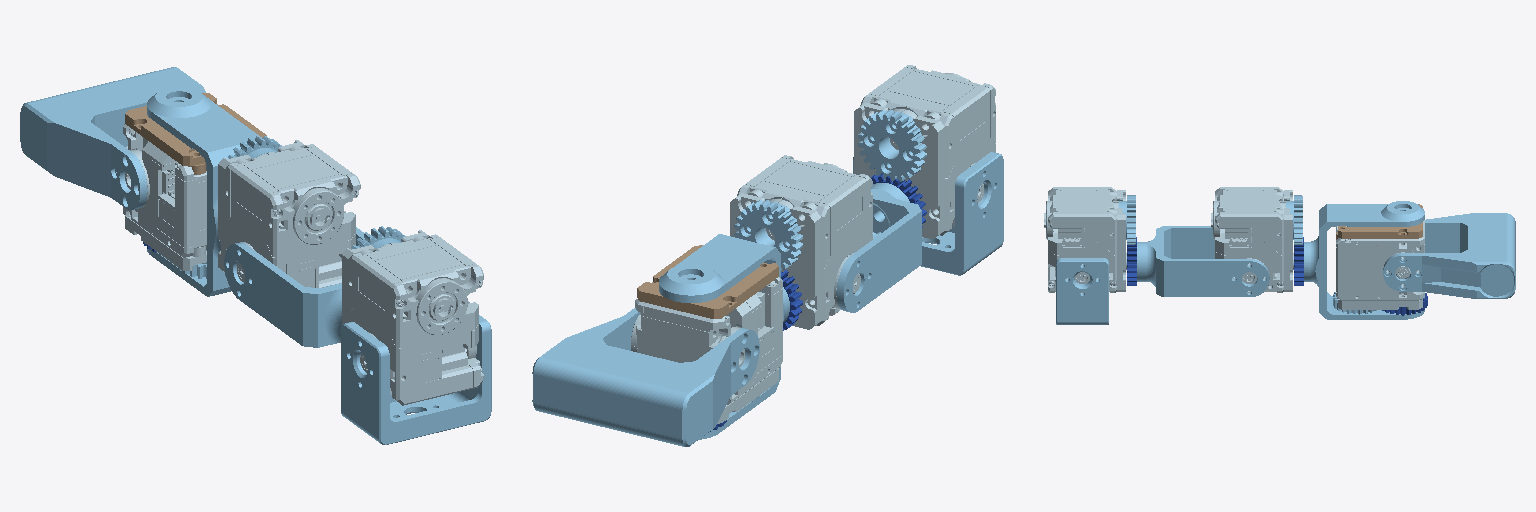
The robot description file, URDF, robot "left_arm_teleop":
<?xml version="1.0" ?><robot name="left_arm_teleop">  
  <link name="sho_pitch_link">    
    <visual>      
      <origin xyz="0 0 0" rpy="0 -0 0"/>      
      <geometry>        
        <mesh filename="package:///meshes/left_sho_pitch_link_visual.stl"/>        
      </geometry>      
      <material name="sho_pitch_link_material">        
        <color rgba="0.61568627450980395466 0.81176470588235294379 0.92941176470588227065 1.0"/>        
      </material>      
    </visual>    
    <collision>      
      <origin xyz="0 0 0" rpy="0 -0 0"/>      
      <geometry>        
        <mesh filename="package:///meshes/left_sho_pitch_link_collision.stl"/>        
      </geometry>      
    </collision>    
    <inertial>      
      <origin xyz="5.8623053609137080132e-19 -2.0931553598988855584e-18 0.012913250798677602602" rpy="0 0 0"/>      
      <mass value="0.0085999999999999965361"/>      
      <inertia ixx="1.8365636406635814379e-06" ixy="0" ixz="0" iyy="4.0110869076839143695e-06" iyz="0" izz="3.5160516450492489574e-06"/>      
    </inertial>    
  </link>  

  <link name="2xl430_gears">    
    <visual>      
      <origin xyz="0 0 0" rpy="0 -0 0"/>      
      <geometry>        
        <mesh filename="package:///meshes/left_2xl430_gears_visual.stl"/>        
      </geometry>      
      <material name="2xl430_gears_material">        
        <color rgba="0.75914767920569226067 0.85560384745670925444 0.90519468321360618823 1.0"/>        
      </material>      
    </visual>    
    <collision>      
      <origin xyz="0 0 0" rpy="0 -0 0"/>      
      <geometry>        
        <mesh filename="package:///meshes/left_2xl430_gears_collision.stl"/>        
      </geometry>      
    </collision>    
    <inertial>      
      <origin xyz="-0.011592905737978803637 -0.0024238553642536059436 -0.018551095523800659182" rpy="0 0 0"/>      
      <mass value="0.11800003674524910113"/>      
      <inertia ixx="2.7511021050422894353e-05" ixy="9.0043904315126140096e-07" ixz="-2.3349710123415146399e-08" iyy="3.2796197843345387254e-05" iyz="-6.5715119654595680896e-07" izz="3.5775739835739264229e-05"/>      
    </inertial>    
  </link>  

  <link name="spur_1m_24t_drive">    
    <visual>      
      <origin xyz="0 0 0" rpy="0 -0 0"/>      
      <geometry>        
        <mesh filename="package:///meshes/left_spur_1m_24t_drive_visual.stl"/>        
      </geometry>      
      <material name="spur_1m_24t_drive_material">        
        <color rgba="0.61568627450980395466 0.81176470588235294379 0.92941176470588238168 1.0"/>        
      </material>      
    </visual>    
    <collision>      
      <origin xyz="0 0 0" rpy="0 -0 0"/>      
      <geometry>        
        <mesh filename="package:///meshes/left_spur_1m_24t_drive_collision.stl"/>        
      </geometry>      
    </collision>    
    <inertial>      
      <origin xyz="3.0325878279133917462e-15 -3.3903091193370445719e-16 0.0048096451474093065287" rpy="0 0 0"/>      
      <mass value="0.0031999999999999997197"/>      
      <inertia ixx="1.4097598887016958673e-07" ixy="1.5562823089627635723e-15" ixz="1.1248526202470513281e-35" iyy="1.4097598803636004139e-07" iyz="9.9927271392864863708e-37" izz="2.4107776386988835496e-07"/>      
    </inertial>    
  </link>  

  <joint name="left_sho_yaw_drive" type="revolute">    
    <origin xyz="-0.02400000071613746927 -0.019000000152448223711 -0.019000000152443286688" rpy="1.570796326794831721 1.850797764112113412e-15 9.6109993447934156082e-14"/>    
    <parent link="2xl430_gears"/>    
    <child link="spur_1m_24t_drive"/>    
    <axis xyz="0 0 1"/>    
    <limit effort="1" velocity="20" lower="-2.6179938779914944114" upper="2.6179938779914944114"/>    
    <joint_properties friction="0.0"/>    
  </joint>  

  <link name="spur_1m_24t_driven">    
    <visual>      
      <origin xyz="0 0 0" rpy="0 -0 0"/>      
      <geometry>        
        <mesh filename="package:///meshes/left_spur_1m_24t_driven_visual.stl"/>        
      </geometry>      
      <material name="spur_1m_24t_driven_material">        
        <color rgba="0.23137254901960788156 0.38039215686274502337 0.7058823529411765163 1.0"/>        
      </material>      
    </visual>    
    <collision>      
      <origin xyz="0 0 0" rpy="0 -0 0"/>      
      <geometry>        
        <mesh filename="package:///meshes/left_spur_1m_24t_driven_collision.stl"/>        
      </geometry>      
    </collision>    
    <inertial>      
      <origin xyz="-6.404638024517231991e-18 -1.6890438479001199412e-15 -0.00097237500038395777158" rpy="0 0 0"/>      
      <mass value="0.0026999999999999997093"/>      
      <inertia ixx="1.2202334915684080498e-07" ixy="-6.0162156049723093734e-39" ixz="8.2060518936513077318e-37" iyy="1.2202334915684067263e-07" iyz="6.7178770649611424629e-37" izz="2.3180293204341257533e-07"/>      
    </inertial>    
  </link>  

  <link name="sho_yaw_link">    
    <visual>      
      <origin xyz="0 0 0" rpy="0 -0 0"/>      
      <geometry>        
        <mesh filename="package:///meshes/left_sho_yaw_link_visual.stl"/>        
      </geometry>      
      <material name="sho_yaw_link_material">        
        <color rgba="0.61568627450980395466 0.81176470588235294379 0.92941176470588238168 1.0"/>        
      </material>      
    </visual>    
    <collision>      
      <origin xyz="0 0 0" rpy="0 -0 0"/>      
      <geometry>        
        <mesh filename="package:///meshes/left_sho_yaw_link_collision.stl"/>        
      </geometry>      
    </collision>    
    <inertial>      
      <origin xyz="2.0455466263090747861e-18 1.3692911871626713223e-18 -0.024649285094360082193" rpy="0 0 0"/>      
      <mass value="0.014500000000000007674"/>      
      <inertia ixx="9.2365904614004490375e-06" ixy="3.5862833440653485265e-13" ixz="2.0149322874729222942e-34" iyy="5.8163826335078808654e-06" iyz="-1.9453303104062545315e-35" izz="4.5074356741562147442e-06"/>      
    </inertial>    
  </link>  

  <link name="2xl430_gears_2">    
    <visual>      
      <origin xyz="0 0 0" rpy="0 -0 0"/>      
      <geometry>        
        <mesh filename="package:///meshes/left_2xl430_gears_2_visual.stl"/>        
      </geometry>      
      <material name="2xl430_gears_2_material">        
        <color rgba="0.75914767920569226067 0.85560384745670925444 0.90519468321360618823 1.0"/>        
      </material>      
    </visual>    
    <collision>      
      <origin xyz="0 0 0" rpy="0 -0 0"/>      
      <geometry>        
        <mesh filename="package:///meshes/left_2xl430_gears_2_collision.stl"/>        
      </geometry>      
    </collision>    
    <inertial>      
      <origin xyz="-0.011592905737977643107 -0.0024238553642528253181 -0.018551095523810064852" rpy="0 0 0"/>      
      <mass value="0.11800003674524910113"/>      
      <inertia ixx="2.7511021050425533708e-05" ixy="9.0043904315421701655e-07" ixz="-2.3349710124846109302e-08" iyy="3.2796197843347474343e-05" iyz="-6.5715119654969137722e-07" izz="3.5775739835742367758e-05"/>      
    </inertial>    
  </link>  

  <link name="spur_1m_24t_drive_2">    
    <visual>      
      <origin xyz="0 0 0" rpy="0 -0 0"/>      
      <geometry>        
        <mesh filename="package:///meshes/left_spur_1m_24t_drive_2_visual.stl"/>        
      </geometry>      
      <material name="spur_1m_24t_drive_2_material">        
        <color rgba="0.61568627450980395466 0.81176470588235294379 0.92941176470588238168 1.0"/>        
      </material>      
    </visual>    
    <collision>      
      <origin xyz="0 0 0" rpy="0 -0 0"/>      
      <geometry>        
        <mesh filename="package:///meshes/left_spur_1m_24t_drive_2_collision.stl"/>        
      </geometry>      
    </collision>    
    <inertial>      
      <origin xyz="3.0395267218172985801e-15 -3.3903091193370440789e-16 0.0048096451474093134676" rpy="0 0 0"/>      
      <mass value="0.0031999999999999997197"/>      
      <inertia ixx="1.4097598887016953379e-07" ixy="1.5562823155802084727e-15" ixz="1.5748187382015000714e-37" iyy="1.4097598803636004139e-07" iyz="-1.3144004331134929355e-36" izz="2.4107776386988835496e-07"/>      
    </inertial>    
  </link>  

  <joint name="left_elbow_yaw_drive" type="revolute">    
    <origin xyz="-0.024000000716137479678 -0.019000000152447349411 -0.019000000152459572272" rpy="1.570796326795050879 -2.4623776678040227635e-13 -5.5971478390936795191e-14"/>    
    <parent link="2xl430_gears_2"/>    
    <child link="spur_1m_24t_drive_2"/>    
    <axis xyz="0 0 1"/>    
    <limit effort="1" velocity="20" lower="-2.6179938779914944114" upper="2.6179938779914944114"/>    
    <joint_properties friction="0.0"/>    
  </joint>  

  <link name="spur_1m_24t_driven_2">    
    <visual>      
      <origin xyz="0 0 0" rpy="0 -0 0"/>      
      <geometry>        
        <mesh filename="package:///meshes/left_spur_1m_24t_driven_2_visual.stl"/>        
      </geometry>      
      <material name="spur_1m_24t_driven_2_material">        
        <color rgba="0.23137254901960788156 0.38039215686274502337 0.7058823529411765163 1.0"/>        
      </material>      
    </visual>    
    <collision>      
      <origin xyz="0 0 0" rpy="0 -0 0"/>      
      <geometry>        
        <mesh filename="package:///meshes/left_spur_1m_24t_driven_2_collision.stl"/>        
      </geometry>      
    </collision>    
    <inertial>      
      <origin xyz="-2.9351910725639001435e-18 -1.6858132070739996184e-15 -0.00097237500038395430213" rpy="0 0 0"/>      
      <mass value="0.0026999999999999997093"/>      
      <inertia ixx="1.2202334915684080498e-07" ixy="1.3355998642232598043e-36" ixz="-1.4028523296068065959e-36" iyy="1.2202334915684067263e-07" iyz="-9.8296243549721208514e-37" izz="2.3180293204341257533e-07"/>      
    </inertial>    
  </link>  

  <link name="elb_yaw_link">    
    <visual>      
      <origin xyz="0 0 0" rpy="0 -0 0"/>      
      <geometry>        
        <mesh filename="package:///meshes/left_elb_yaw_link_visual.stl"/>        
      </geometry>      
      <material name="elb_yaw_link_material">        
        <color rgba="0.61568627450980395466 0.81176470588235294379 0.9294117647058824927 1.0"/>        
      </material>      
    </visual>    
    <collision>      
      <origin xyz="0 0 0" rpy="0 -0 0"/>      
      <geometry>        
        <mesh filename="package:///meshes/left_elb_yaw_link_collision.stl"/>        
      </geometry>      
    </collision>    
    <inertial>      
      <origin xyz="5.3127688027629610046e-08 0.0019833638641961644222 -0.023416643551549942009" rpy="0 0 0"/>      
      <mass value="0.017499999999999994726"/>      
      <inertia ixx="1.4134344903109187917e-05" ixy="1.694578392202575009e-12" ixz="-1.1286398721840430294e-11" iyy="6.6435900776211281112e-06" iyz="1.0545227077253053344e-06" izz="8.9925290757998942891e-06"/>      
    </inertial>    
  </link>  

  <link name="spur_1m_24t_driven_3">    
    <visual>      
      <origin xyz="0 0 0" rpy="0 -0 0"/>      
      <geometry>        
        <mesh filename="package:///meshes/left_spur_1m_24t_driven_3_visual.stl"/>        
      </geometry>      
      <material name="spur_1m_24t_driven_3_material">        
        <color rgba="0.23137254901960788156 0.38039215686274502337 0.7058823529411765163 1.0"/>        
      </material>      
    </visual>    
    <collision>      
      <origin xyz="0 0 0" rpy="0 -0 0"/>      
      <geometry>        
        <mesh filename="package:///meshes/left_spur_1m_24t_driven_3_collision.stl"/>        
      </geometry>      
    </collision>    
    <inertial>      
      <origin xyz="-3.0690766688192841002e-17 -1.6890438479001193495e-15 -0.0025723750003839584988" rpy="0 0 0"/>      
      <mass value="0.0026999999999999997093"/>      
      <inertia ixx="1.2202334915684080498e-07" ixy="1.2875702339791737391e-36" ixz="-1.8069035801143971289e-36" iyy="1.2202334915684067263e-07" iyz="-1.3585414254943858721e-36" izz="2.3180293204341257533e-07"/>      
    </inertial>    
  </link>  

  <link name="2xl430_gears_3">    
    <visual>      
      <origin xyz="0 0 0" rpy="0 -0 0"/>      
      <geometry>        
        <mesh filename="package:///meshes/left_2xl430_gears_3_visual.stl"/>        
      </geometry>      
      <material name="2xl430_gears_3_material">        
        <color rgba="0.75914767920569226067 0.85560384745670925444 0.90519468321360618823 1.0"/>        
      </material>      
    </visual>    
    <collision>      
      <origin xyz="0 0 0" rpy="0 -0 0"/>      
      <geometry>        
        <mesh filename="package:///meshes/left_2xl430_gears_3_collision.stl"/>        
      </geometry>      
    </collision>    
    <inertial>      
      <origin xyz="0.00044890447620279038624 0.011592905379897515059 -0.024576144788197754748" rpy="0 0 0"/>      
      <mass value="0.11800003674524910113"/>      
      <inertia ixx="3.5775739835741385199e-05" ixy="2.3349710123656835339e-08" ixz="6.5715119654824856248e-07" iyy="2.7511021050426275709e-05" iyz="9.004390431539733887e-07" izz="3.2796197843345387254e-05"/>      
    </inertial>    
  </link>  

  <link name="spur_1m_24t_drive_3">    
    <visual>      
      <origin xyz="0 0 0" rpy="0 -0 0"/>      
      <geometry>        
        <mesh filename="package:///meshes/left_spur_1m_24t_drive_3_visual.stl"/>        
      </geometry>      
      <material name="spur_1m_24t_drive_3_material">        
        <color rgba="0.61568627450980395466 0.81176470588235294379 0.92941176470588238168 1.0"/>        
      </material>      
    </visual>    
    <collision>      
      <origin xyz="0 0 0" rpy="0 -0 0"/>      
      <geometry>        
        <mesh filename="package:///meshes/left_spur_1m_24t_drive_3_collision.stl"/>        
      </geometry>      
    </collision>    
    <inertial>      
      <origin xyz="3.0325878279133917462e-15 -3.3903091193370440789e-16 0.0048096451474093065287" rpy="0 0 0"/>      
      <mass value="0.0031999999999999997197"/>      
      <inertia ixx="1.4097598887016958673e-07" ixy="1.5562823135089737022e-15" ixz="-1.2298330600566655799e-35" iyy="1.4097598803635998845e-07" iyz="-9.647664680393920366e-37" izz="2.4107776386988835496e-07"/>      
    </inertial>    
  </link>  

  <joint name="left_wrist_pitch_drive" type="revolute">    
    <origin xyz="-1.5244061281334315741e-10 0.024000000358057355099 -0.008000000000006854059" rpy="2.9920510513620049399e-14 -2.2098000172907926085e-13 -1.5707963267949176522"/>    
    <parent link="2xl430_gears_3"/>    
    <child link="spur_1m_24t_drive_3"/>    
    <axis xyz="0 0 1"/>    
    <limit effort="1" velocity="20" lower="-1.9198621771937625091" upper="1.3962634015954635824"/>    
    <joint_properties friction="0.0"/>    
  </joint>  

  <link name="hand">    
    <visual>      
      <origin xyz="0 0 0" rpy="0 -0 0"/>      
      <geometry>        
        <mesh filename="package:///meshes/left_hand_visual.stl"/>        
      </geometry>      
      <material name="hand_material">        
        <color rgba="0.61568627450980395466 0.81176470588235294379 0.92941176470588238168 1.0"/>        
      </material>      
    </visual>    
    <collision>      
      <origin xyz="0 0 0" rpy="0 -0 0"/>      
      <geometry>        
        <mesh filename="package:///meshes/left_hand_collision.stl"/>        
      </geometry>      
    </collision>    
    <inertial>      
      <origin xyz="-2.4899508593280913982e-10 -0.040594531666389030433 -0.019479063914252026102" rpy="0 0 0"/>      
      <mass value="0.017000000000001441042"/>      
      <inertia ixx="9.218759418532231992e-06" ixy="1.5922041095748067007e-15" ixz="1.0539511470560742215e-13" iyy="6.6718567758212687756e-06" iyz="2.1533596775200797648e-08" izz="3.7788698411876585756e-06"/>      
    </inertial>    
  </link>  

  <joint name="left_wrist_roll" type="revolute">    
    <origin xyz="0.019000000000007080669 -3.5808120357749828599e-10 -0.027000000152448053875" rpy="1.65501867512989302e-28 1.5707963267945834751 0"/>    
    <parent link="2xl430_gears_3"/>    
    <child link="hand"/>    
    <axis xyz="0 0 1"/>    
    <limit effort="1" velocity="20" lower="-1.9198621771937625091" upper="1.3962634015954635824"/>    
    <joint_properties friction="0.0"/>    
  </joint>  

  <link name="wrist_bearing_plate">    
    <visual>      
      <origin xyz="0 0 0" rpy="0 -0 0"/>      
      <geometry>        
        <mesh filename="package:///meshes/left_wrist_bearing_plate_visual.stl"/>        
      </geometry>      
      <material name="wrist_bearing_plate_material">        
        <color rgba="0.71932243125689065977 0.63128434304969727187 0.52422389360984933404 1.0"/>        
      </material>      
    </visual>    
    <collision>      
      <origin xyz="0 0 0" rpy="0 -0 0"/>      
      <geometry>        
        <mesh filename="package:///meshes/left_wrist_bearing_plate_collision.stl"/>        
      </geometry>      
    </collision>    
    <inertial>      
      <origin xyz="-0.0075835583121499549816 -0.015499999999999977338 -0.0018386323705903348785" rpy="0 0 0"/>      
      <mass value="0.0049000367468305548388"/>      
      <inertia ixx="4.9707430109150118544e-07" ixy="1.4349298964815090828e-22" ixz="1.8100904820814068335e-08" iyy="7.1268523603538553059e-07" iyz="3.0683589798298992542e-23" izz="1.1919657811600109234e-06"/>      
    </inertial>    
  </link>  

  <joint name="left_wrist_pitch_fixed" type="fixed">    
    <origin xyz="0.015500000000007917167 -1.8096635301390051609e-14 -0.044999999999998950562" rpy="3.486100297319300299e-14 -2.8212328306853425065e-13 -1.570796326794906328"/>    
    <parent link="2xl430_gears_3"/>    
    <child link="wrist_bearing_plate"/>    
    <axis xyz="0 0 1"/>    
    <limit effort="1" velocity="20"/>    
    <joint_properties friction="0.0"/>    
  </joint>  

  <joint name="left_wrist_pitch_driven" type="revolute">    
    <origin xyz="0 -1.5777218104420236108e-30 -0.001599999999999995523" rpy="-8.9088059138933082651e-15 -1.3322676295501766467e-14 -1.570796326794896558"/>    
    <parent link="spur_1m_24t_driven_3"/>    
    <child link="2xl430_gears_3"/>    
    <axis xyz="0 0 1"/>    
    <limit effort="1" velocity="20" lower="-1.3962634015954635824" upper="1.9198621771937625091"/>    
    <joint_properties friction="0.0"/>    
  </joint>  

  <joint name="left_wrist_roll_fixed" type="fixed">    
    <origin xyz="4.7331654313260708325e-30 -0.025299999999999996103 -0.051999999999999935163" rpy="1.5707963267949045516 -1.5707963267948876762 0"/>    
    <parent link="elb_yaw_link"/>    
    <child link="spur_1m_24t_driven_3"/>    
    <axis xyz="0 0 1"/>    
    <limit effort="1" velocity="20"/>    
    <joint_properties friction="0.0"/>    
  </joint>  

  <joint name="left_elbow_yaw_fixed" type="fixed">    
    <origin xyz="0 3.4694469519536141888e-18 0.0016000000000000041966" rpy="3.141592653589793116 2.4936649967313003473e-18 -2.2204460492502714191e-16"/>    
    <parent link="spur_1m_24t_driven_2"/>    
    <child link="elb_yaw_link"/>    
    <axis xyz="0 0 1"/>    
    <limit effort="1" velocity="20"/>    
    <joint_properties friction="0.0"/>    
  </joint>  

  <joint name="left_elbow_yaw_driven" type="revolute">    
    <origin xyz="-3.5806392920112450895e-10 -0.027000000152452754976 -0.019000000000006633111" rpy="1.5707963267949589525 1.5707963267947409047 0"/>    
    <parent link="2xl430_gears_2"/>    
    <child link="spur_1m_24t_driven_2"/>    
    <axis xyz="0 0 1"/>    
    <limit effort="1" velocity="20" lower="-2.6179938779914944114" upper="2.6179938779914944114"/>    
    <joint_properties friction="0.0"/>    
  </joint>  

  <joint name="left_elbow_roll" type="revolute">    
    <origin xyz="3.4694469519536141888e-18 -0.019000000000000002998 -0.058999999999999996891" rpy="1.5707963267948954478 7.3152855301068808406e-14 2.7484141262355823552e-16"/>    
    <parent link="sho_yaw_link"/>    
    <child link="2xl430_gears_2"/>    
    <axis xyz="0 0 1"/>    
    <limit effort="1" velocity="20" lower="-1.9198621771937625091" upper="2.4434609527920612138"/>    
    <joint_properties friction="0.0"/>    
  </joint>  

  <joint name="left_sho_yaw_fixed" type="fixed">    
    <origin xyz="0 3.9443045261050590271e-31 0.0015999999999999903189" rpy="-3.1415926535897926719 1.3077834694366447344e-29 -1.0778004732281277398e-29"/>    
    <parent link="spur_1m_24t_driven"/>    
    <child link="sho_yaw_link"/>    
    <axis xyz="0 0 1"/>    
    <limit effort="1" velocity="20"/>    
    <joint_properties friction="0.0"/>    
  </joint>  

  <joint name="left_sho_yaw_driven" type="revolute">    
    <origin xyz="-3.5807029910572829579e-10 -0.027000000152445313012 -0.018999999999999878098" rpy="1.5707963267948490405 7.9716727511622507804e-14 1.0197398481181663976e-13"/>    
    <parent link="2xl430_gears"/>    
    <child link="spur_1m_24t_driven"/>    
    <axis xyz="0 0 1"/>    
    <limit effort="1" velocity="20" lower="-2.6179938779914944114" upper="2.6179938779914944114"/>    
    <joint_properties friction="0.0"/>    
  </joint>  

  <joint name="left_sho_roll" type="revolute">    
    <origin xyz="-0.018999999999999999528 9.280741673053687128e-18 0.027000000000000006634" rpy="-3.141592653589793116 1.5707963267948044095 0"/>    
    <parent link="sho_pitch_link"/>    
    <child link="2xl430_gears"/>    
    <axis xyz="0 0 1"/>    
    <limit effort="1" velocity="20" lower="-1.570796326794896558" upper="0.34906585039886589561"/>    
    <joint_properties friction="0.0"/>    
  </joint>  


</robot>

--- Render facts (derived) ---
Views: 3 orthographic renders of the robot side by side, from view 1: azimuth 30°, elevation 25°; view 2: azimuth 150°, elevation 25°; view 3: azimuth 270°, elevation 25°.
Robot: left_arm_teleop — 14 links, 13 joints (9 revolute, 4 fixed); root link sho_pitch_link; default pose: every joint at zero.
Visible links, largest first — view 1: 2xl430_gears, 2xl430_gears_2, hand, sho_pitch_link, 2xl430_gears_3, elb_yaw_link, sho_yaw_link, wrist_bearing_plate, spur_1m_24t_drive_2, spur_1m_24t_drive; view 2: hand, 2xl430_gears_2, 2xl430_gears, 2xl430_gears_3, sho_yaw_link, sho_pitch_link, elb_yaw_link, spur_1m_24t_drive, wrist_bearing_plate, spur_1m_24t_drive_2, spur_1m_24t_driven_2, spur_1m_24t_driven; view 3: hand, sho_yaw_link, 2xl430_gears_2, 2xl430_gears, 2xl430_gears_3, elb_yaw_link, sho_pitch_link, wrist_bearing_plate, spur_1m_24t_drive, spur_1m_24t_drive_2.
Boxes of the visible links, left/top/right/bottom form: 2xl430_gears: left=342, top=230, right=483, bottom=405; 2xl430_gears_2: left=218, top=140, right=360, bottom=287; hand: left=20, top=67, right=205, bottom=209; sho_pitch_link: left=341, top=315, right=491, bottom=444; 2xl430_gears_3: left=123, top=124, right=206, bottom=270; elb_yaw_link: left=147, top=87, right=261, bottom=296; sho_yaw_link: left=224, top=227, right=364, bottom=347; wrist_bearing_plate: left=125, top=93, right=266, bottom=174; spur_1m_24t_drive_2: left=228, top=136, right=281, bottom=158; spur_1m_24t_drive: left=351, top=226, right=405, bottom=248; hand: left=532, top=308, right=759, bottom=446; 2xl430_gears_2: left=730, top=155, right=872, bottom=329; 2xl430_gears: left=854, top=65, right=995, bottom=238; 2xl430_gears_3: left=631, top=277, right=782, bottom=423; sho_yaw_link: left=836, top=183, right=921, bottom=312; sho_pitch_link: left=853, top=152, right=1003, bottom=275; elb_yaw_link: left=659, top=234, right=789, bottom=439; spur_1m_24t_drive: left=858, top=109, right=926, bottom=181; wrist_bearing_plate: left=637, top=245, right=778, bottom=318; spur_1m_24t_drive_2: left=734, top=200, right=802, bottom=269; spur_1m_24t_driven_2: left=781, top=270, right=802, bottom=330; spur_1m_24t_driven: left=871, top=173, right=926, bottom=227; hand: left=1383, top=213, right=1515, bottom=298; sho_yaw_link: left=1137, top=226, right=1269, bottom=296; 2xl430_gears_2: left=1211, top=187, right=1293, bottom=292; 2xl430_gears: left=1044, top=187, right=1126, bottom=292; 2xl430_gears_3: left=1336, top=220, right=1424, bottom=309; elb_yaw_link: left=1304, top=201, right=1424, bottom=319; sho_pitch_link: left=1056, top=258, right=1108, bottom=324; wrist_bearing_plate: left=1336, top=204, right=1422, bottom=239; spur_1m_24t_drive: left=1119, top=195, right=1135, bottom=244; spur_1m_24t_drive_2: left=1286, top=195, right=1302, bottom=244.
Bounding box of the posed robot: 0.063 × 0.2472 × 0.0652 m (x, y, z).
Meshes: 14 distinct files referenced, 14 mesh visuals loaded (14 binary STL).